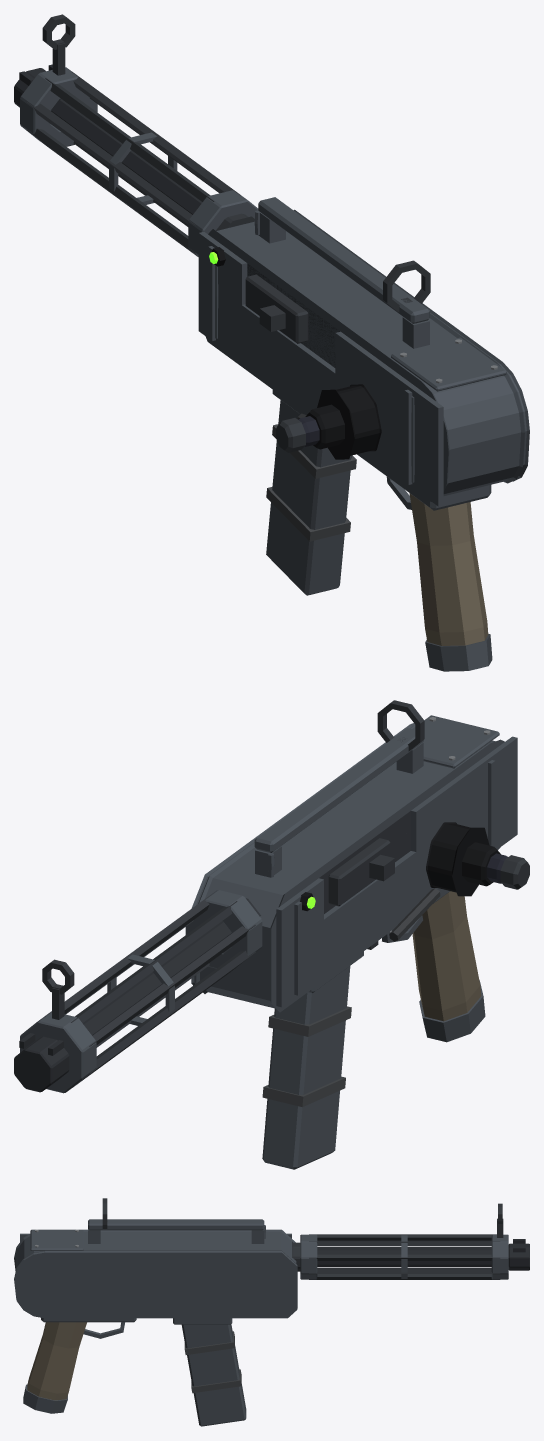
Rendered from switchback_a.glb.
3 renders of one model, top to bottom at view 1: azimuth 30°, elevation 25°; view 2: azimuth 150°, elevation 25°; view 3: azimuth 270°, elevation 25°, orthographic. The views are drawn at different scales.
Parts seen in each view (by area): view 1: Body, Bolt; view 2: Body, Bolt; view 3: Body.
Boxes of the visible parts, left/top/right/bottom form: Body: left=14, top=14, right=529, bottom=671; Bolt: left=245, top=274, right=308, bottom=343; Body: left=14, top=700, right=529, bottom=1169; Bolt: left=328, top=838, right=394, bottom=906; Body: left=14, top=1198, right=529, bottom=1426.
Bounding box in the file's own units: 0.1038 × 0.2301 × 0.4855.
